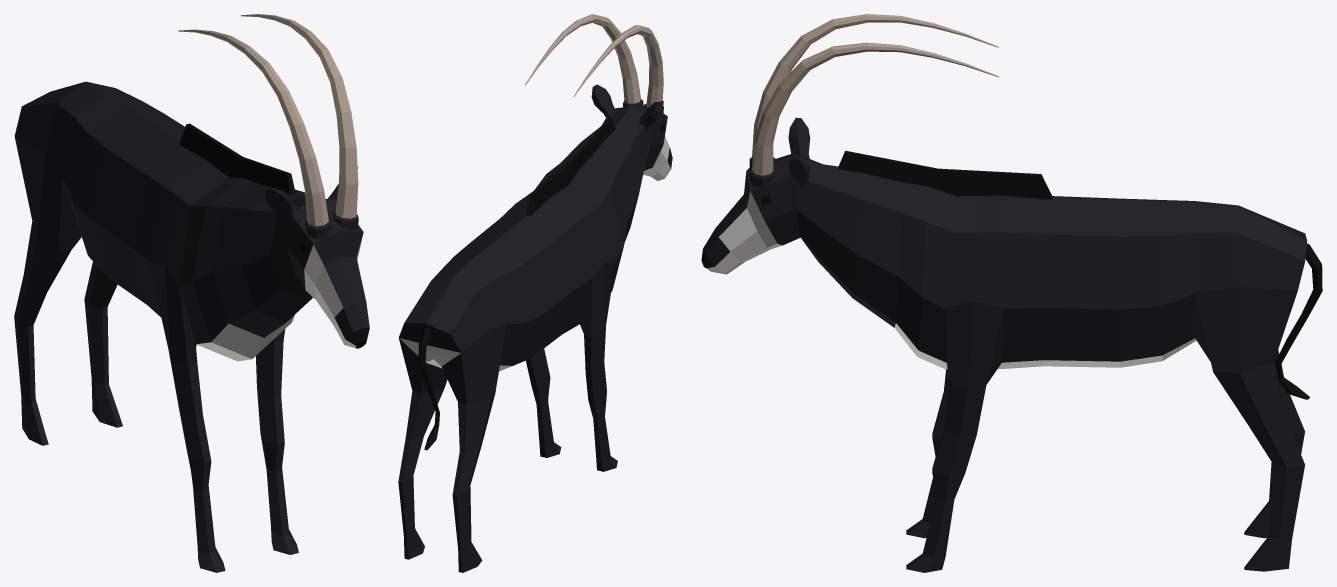
File: antilope.glb
The picture shows the model from 3 angles, left to right: view 1: azimuth 30°, elevation 25°; view 2: azimuth 150°, elevation 25°; view 3: azimuth 270°, elevation 25°; orthographic projection. The views are drawn at different scales.
Parts seen in each view (by area): view 1: Geo_Antelope; view 2: Geo_Antelope; view 3: Geo_Antelope.
Part boxes in pixels (box(x1,y1,x2,y2)): Geo_Antelope: box(14, 14, 369, 572); Geo_Antelope: box(398, 14, 672, 572); Geo_Antelope: box(701, 14, 1322, 572).
Size of the model in its own units: 35.61 by 158 by 170.
1 material, 1 textured.
